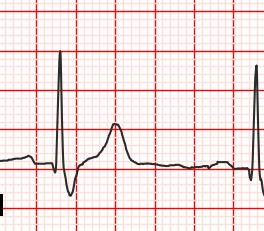ST Depression: (46, 156, 84, 199)
